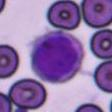M: (30, 30, 84, 82)
